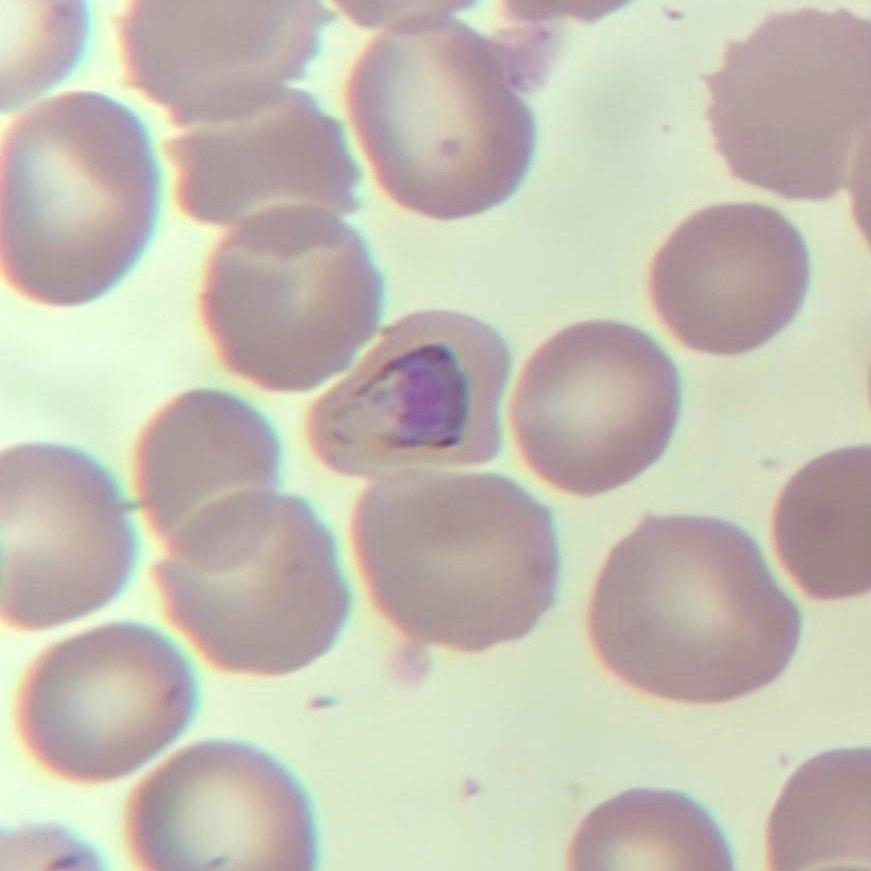Infected: (300, 308, 508, 489)
Uninfected: (590, 518, 800, 701), (170, 66, 362, 259), (152, 483, 342, 677), (345, 16, 530, 215), (205, 198, 382, 402), (355, 466, 553, 644), (0, 88, 157, 310), (510, 318, 683, 497), (700, 8, 862, 190), (20, 631, 198, 787), (115, 736, 313, 871), (120, 0, 332, 124), (135, 391, 282, 567), (648, 198, 815, 352), (0, 438, 132, 627)
